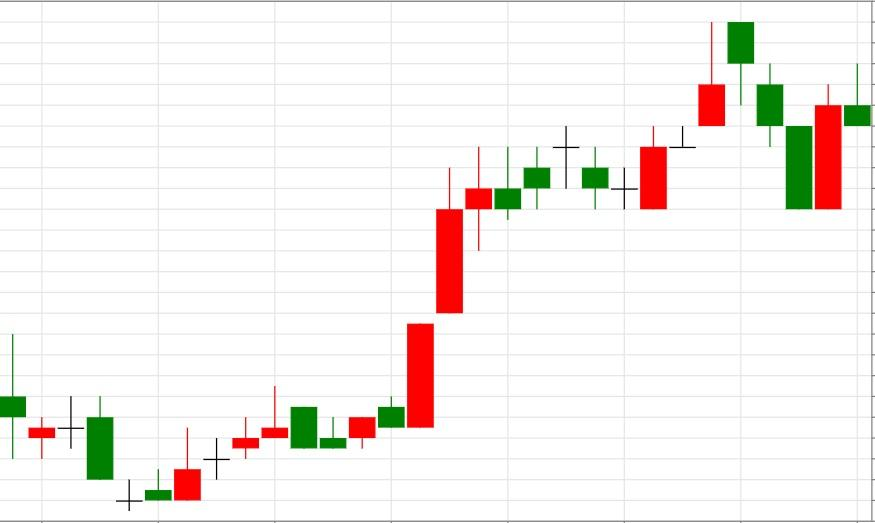bullish_engulfing_rise: (727, 20, 843, 209), (86, 396, 201, 512)
